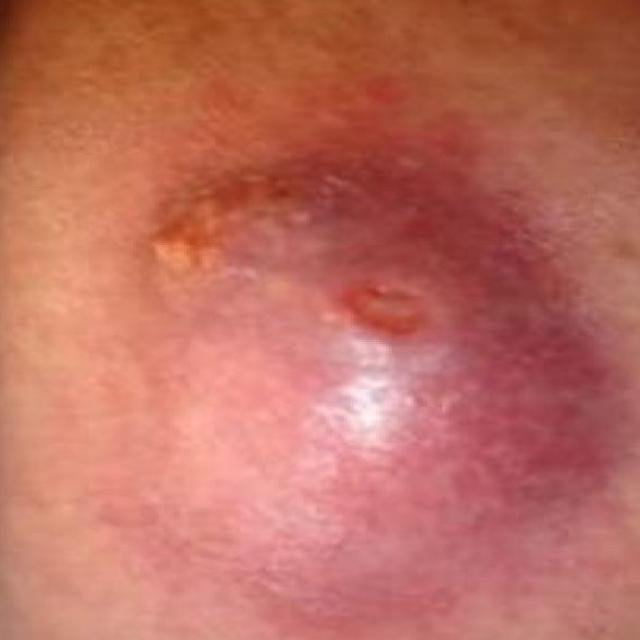nodule: (39, 130, 640, 638)
